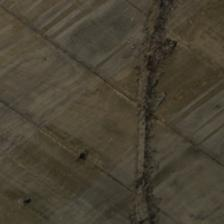Crack: (135, 2, 177, 221)
